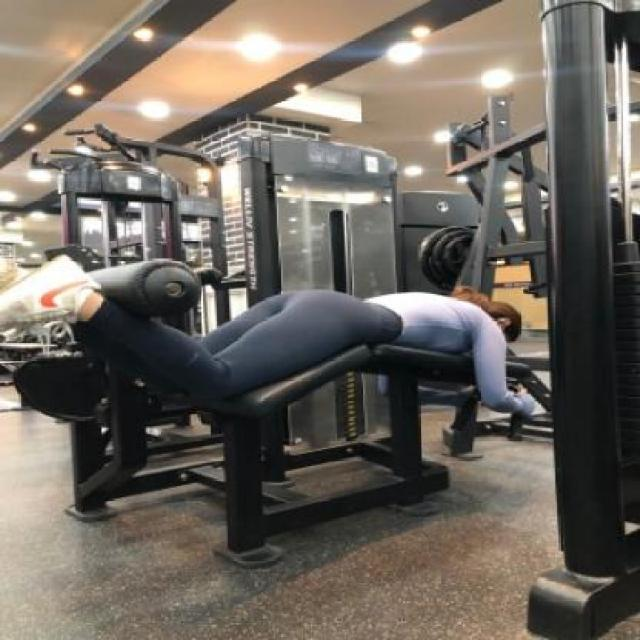reg curl machine: (0, 126, 549, 572)
